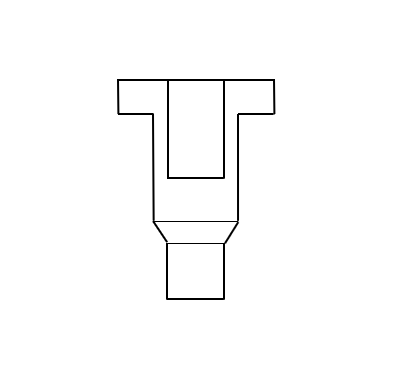nrfp: (146, 66, 244, 209)
